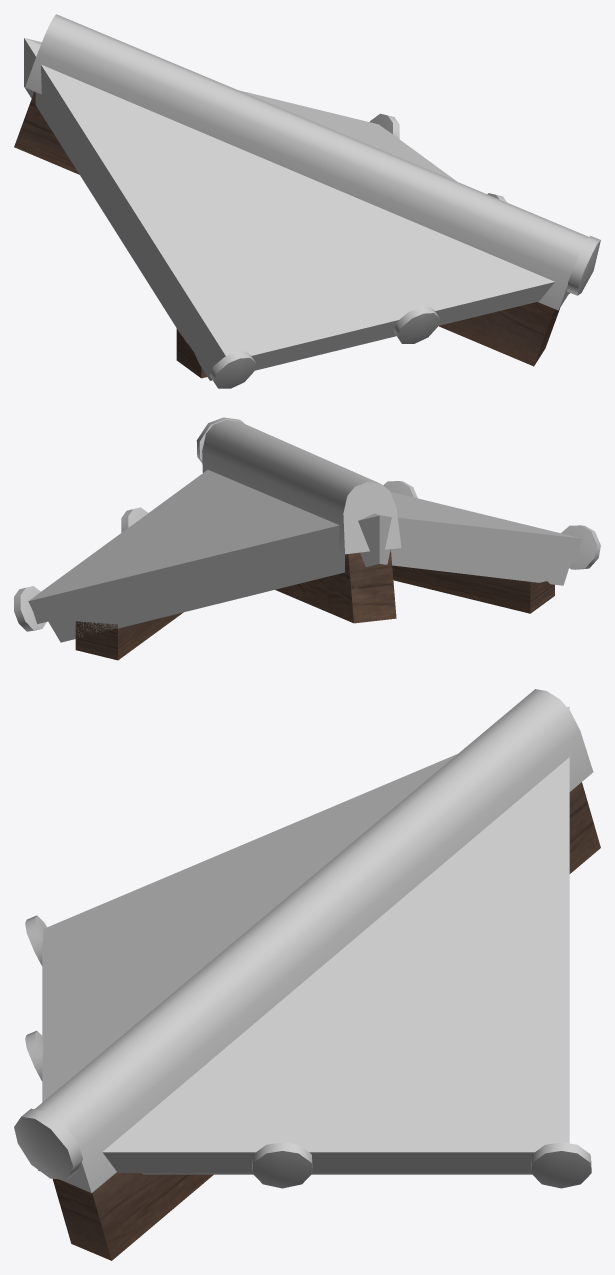
The model's file is kawara_2x0t_a1corner_vex.fbx.
The picture shows the model from 3 angles, top to bottom: view 1: azimuth 30°, elevation 25°; view 2: azimuth 150°, elevation 25°; view 3: azimuth 270°, elevation 25°; orthographic projection. The views are drawn at different scales.
Visible parts, largest first — view 1: kawara_2x0t_a1corner_vex; view 2: kawara_2x0t_a1corner_vex; view 3: kawara_2x0t_a1corner_vex.
Boxes of the visible parts, <box> form: kawara_2x0t_a1corner_vex: <box>14,14,600,388</box>; kawara_2x0t_a1corner_vex: <box>14,417,600,660</box>; kawara_2x0t_a1corner_vex: <box>14,689,600,1260</box>.
Bounding box in the file's own units: 120 × 82.56 × 119.
